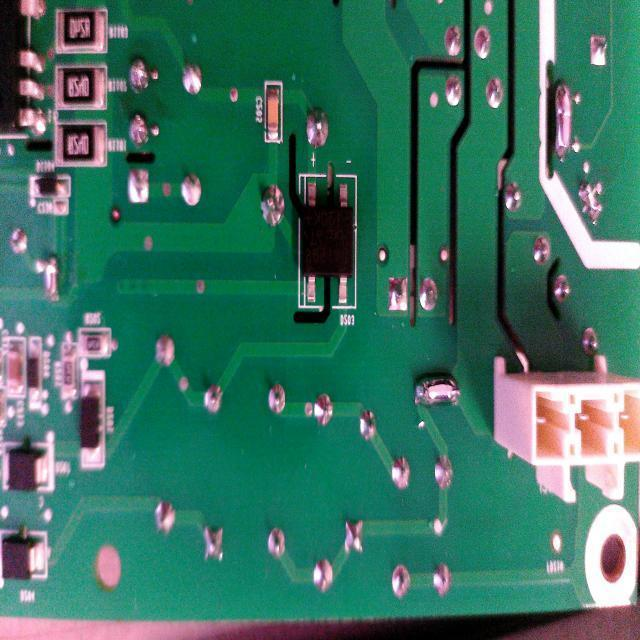Soldering bridge: (409, 364, 466, 419), (548, 72, 578, 169), (576, 172, 606, 232), (42, 250, 62, 310)
